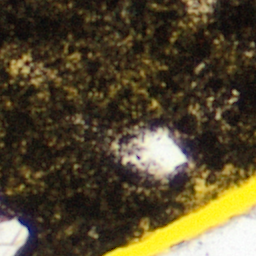cement_matrix: (0, 0, 255, 255), (116, 127, 190, 180), (13, 61, 25, 71)
cracks: (103, 172, 255, 255)
gravel_crushed_stones: (156, 206, 255, 255), (117, 128, 189, 179), (0, 222, 23, 255), (190, 0, 209, 11), (14, 62, 24, 70)
